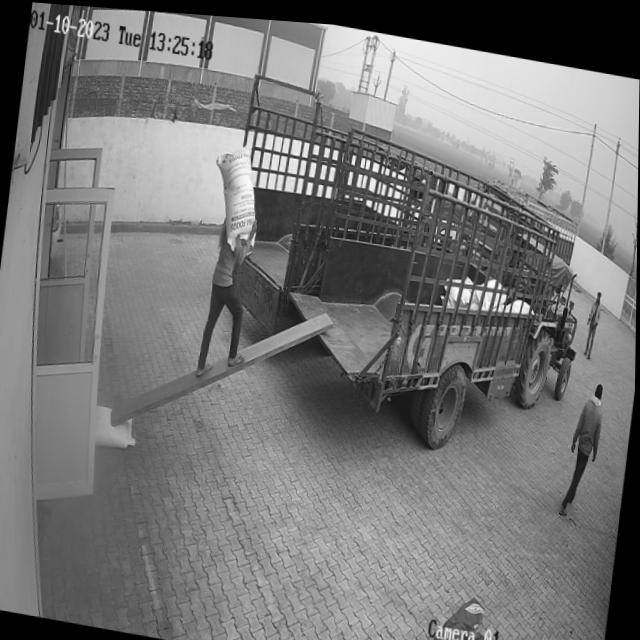sack: (206, 138, 265, 249), (93, 402, 140, 450)
